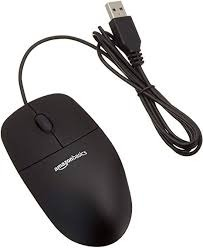mouse: (1, 91, 134, 248)
